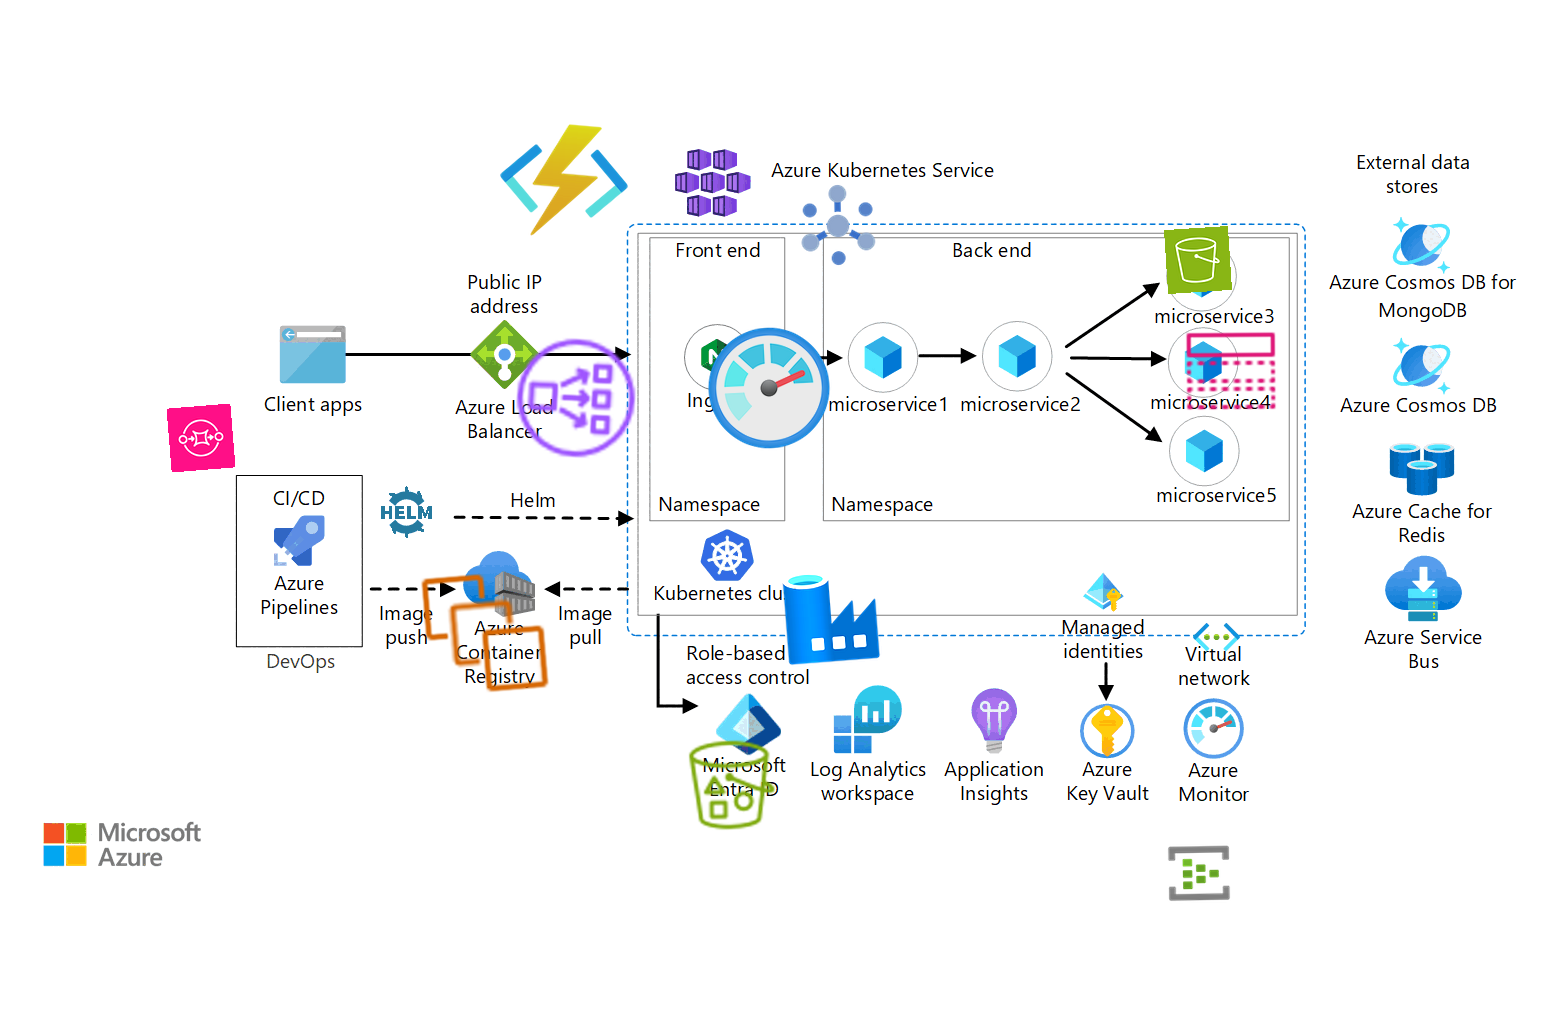aws_amazon_simple_queue_service: (166, 403, 236, 473)
aws_amazon_simple_storage_service: (1163, 225, 1233, 295)
aws_ec2_instances: (415, 563, 555, 703)
aws_elastic_load_balancing_network_load_balancer: (508, 330, 644, 467)
aws_simple_notification_service_topic: (1182, 322, 1280, 420)
aws_simple_storage_service_bucket_with_objects: (682, 735, 783, 834)
azure_data_factories: (779, 564, 883, 668)
azure_event_hubs: (1166, 840, 1232, 906)
azure_function_apps: (494, 111, 634, 251)
azure_monitor: (701, 320, 838, 456)
gcp_pubsub: (788, 175, 888, 275)
